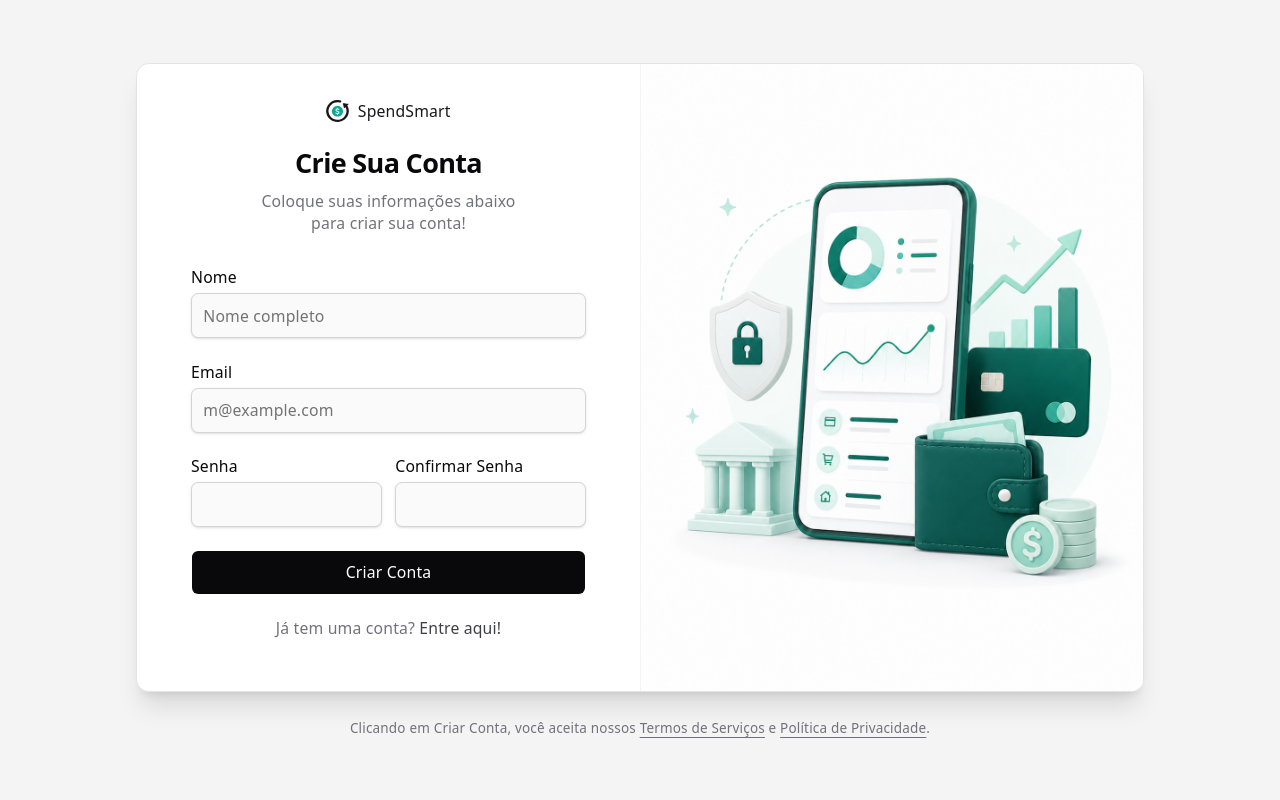
Cadastro › deve exibir erros obrigatórios ao tentar enviar formulário vazio
Click the button "Criar Conta".
click(388, 572)  # box x1=191 y1=550 x2=586 y2=595
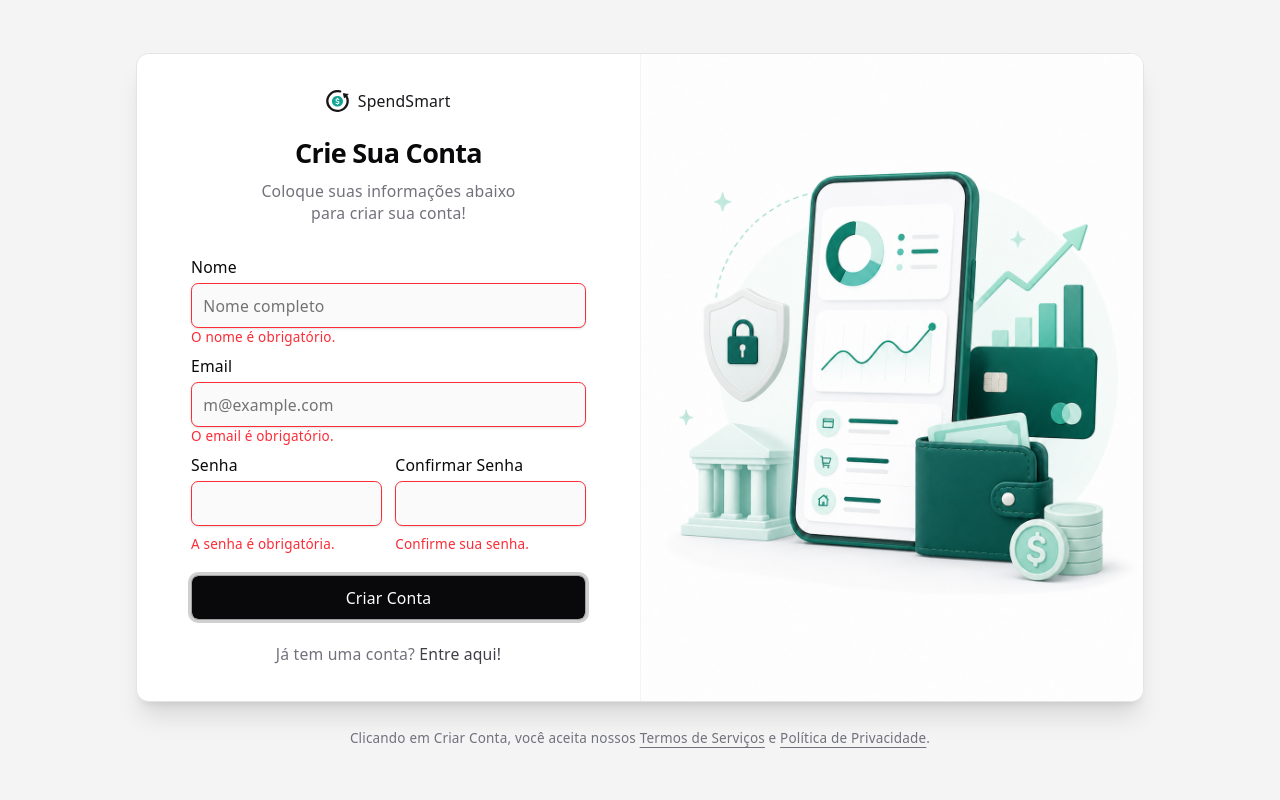
expect the text "O nome é obrigatório." is shown: met, box x1=191 y1=328 x2=336 y2=346
expect the text "O email é obrigatório." is shown: met, box x1=191 y1=427 x2=334 y2=445
expect the text "A senha é obrigatória." is shown: met, box x1=191 y1=535 x2=335 y2=553
